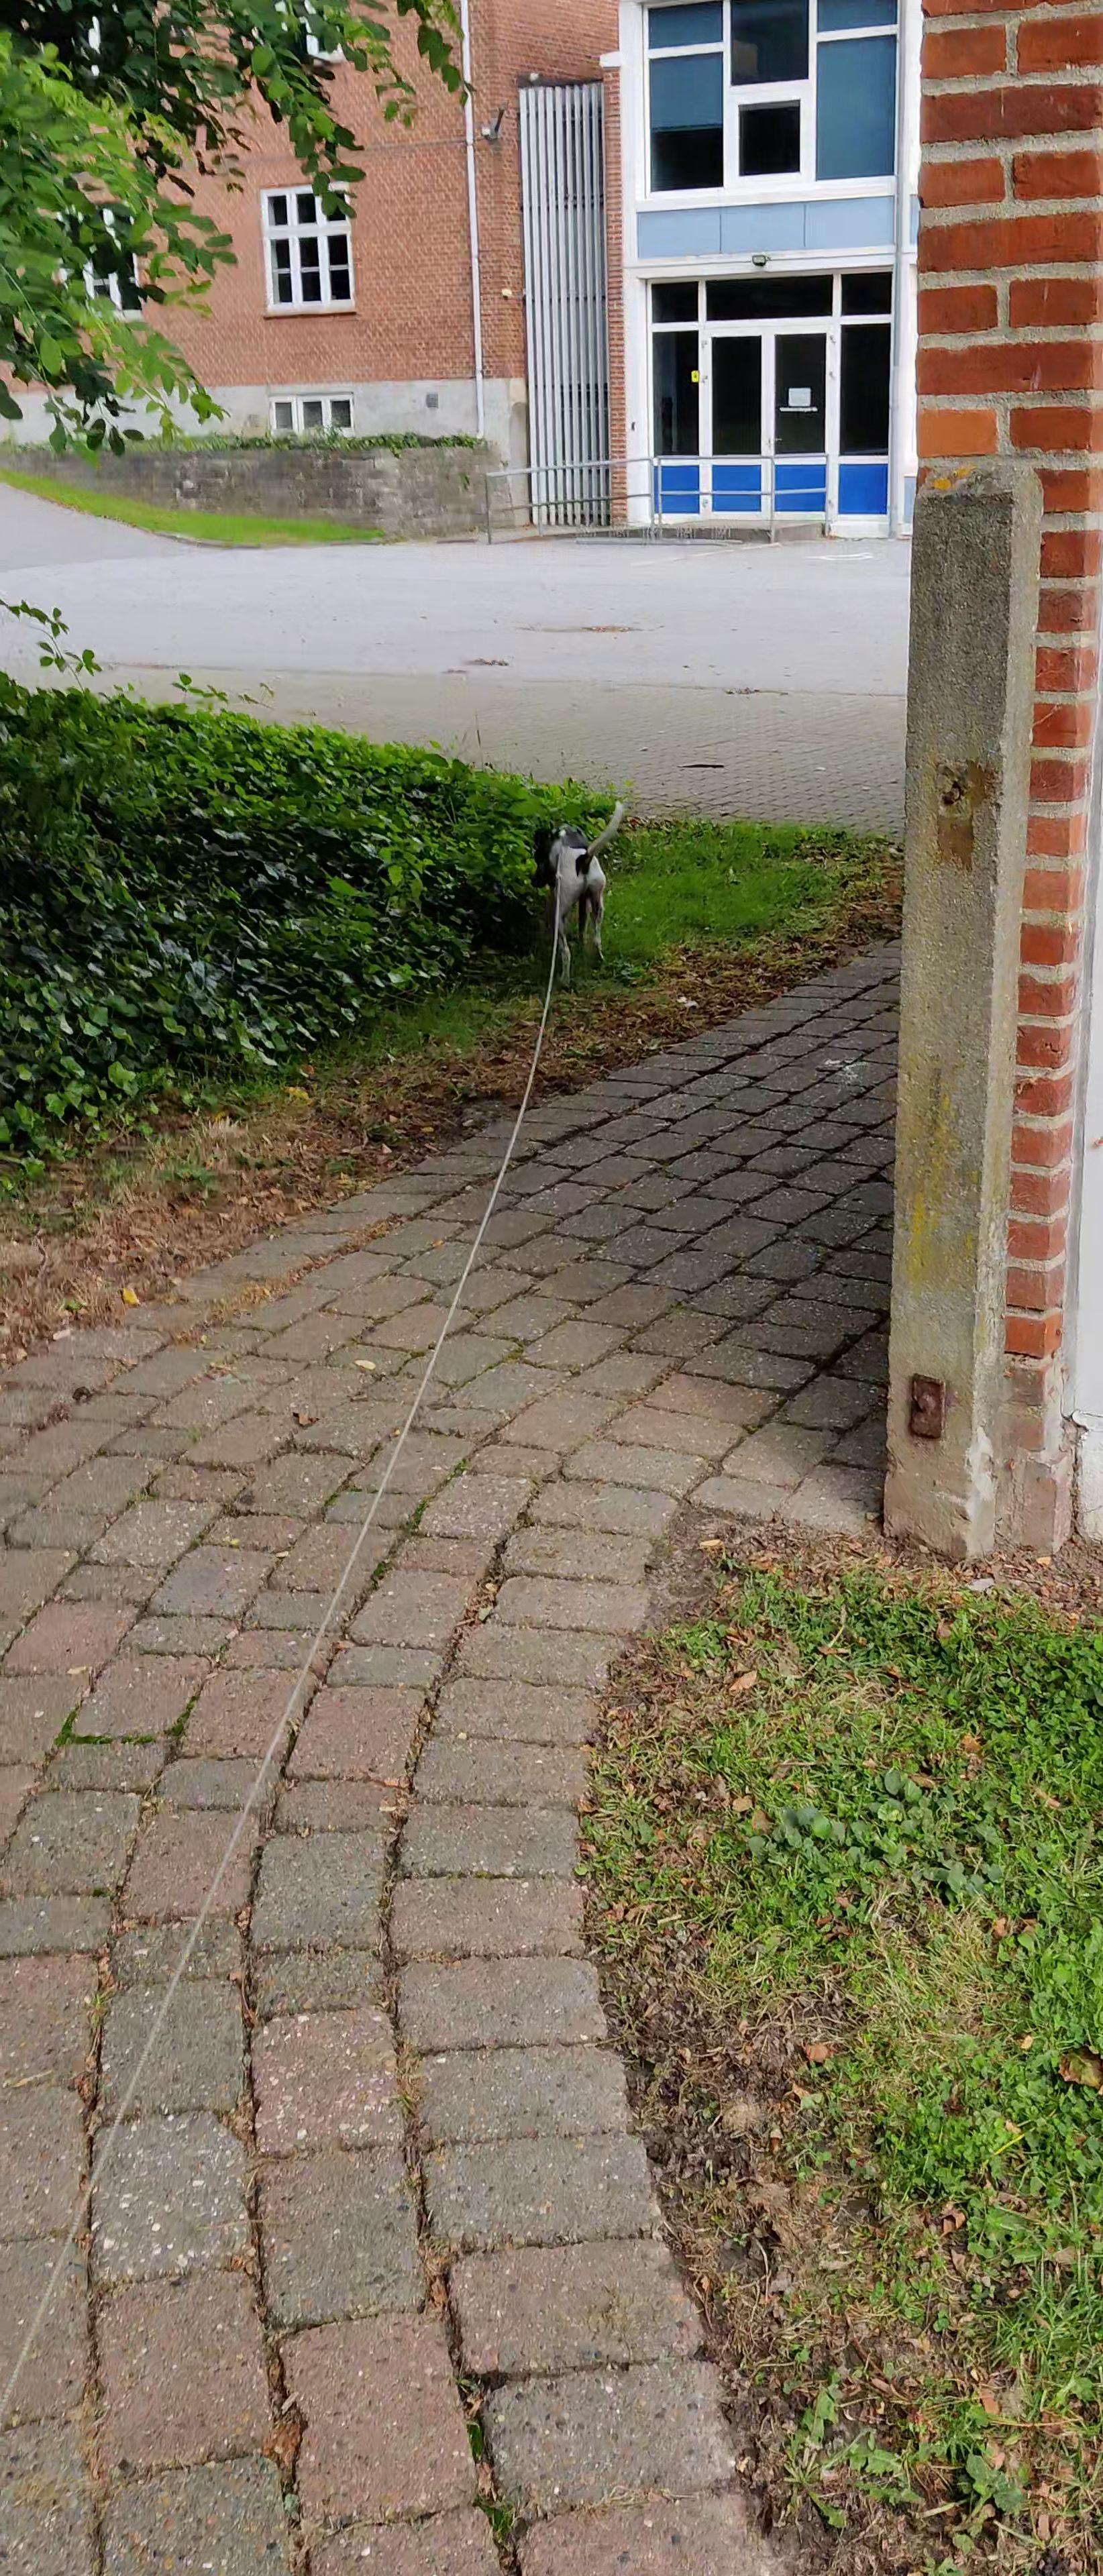Dog: (523, 793, 633, 994)
